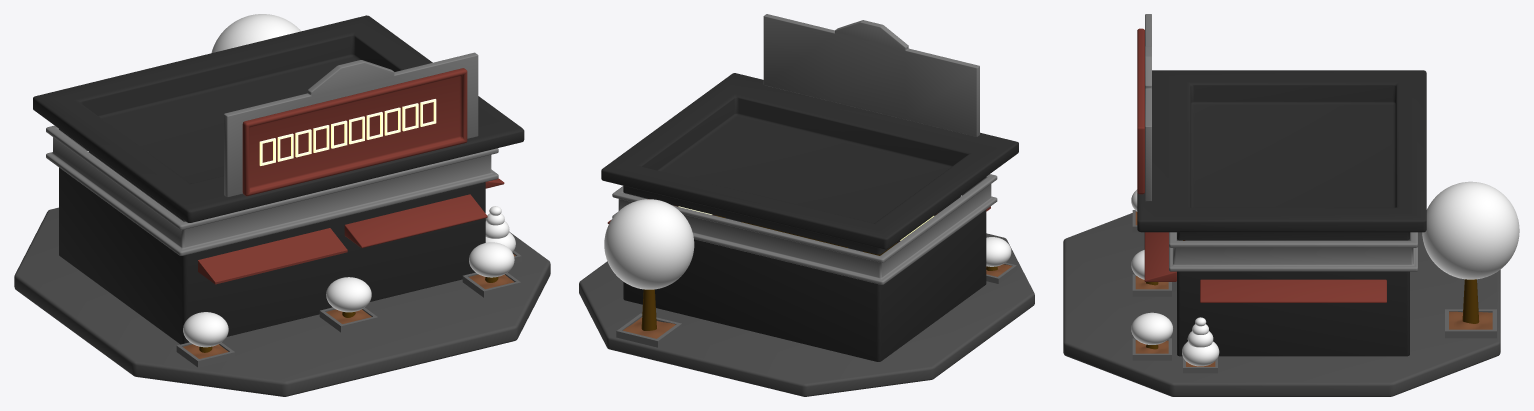
Rendered from restaurant_13.glb.
3 renders of one model, left to right at view 1: azimuth 30°, elevation 25°; view 2: azimuth 150°, elevation 25°; view 3: azimuth 270°, elevation 25°, orthographic. The views are drawn at different scales.
Visible parts, largest first — view 1: Cube.174, Cube.212, Cube.182, Cube.185, Cube.183, Cube.177, Cube.178, Text.009, Sphere.094, Sphere.109, Sphere.110, Sphere.108 (+3 smaller); view 2: Cube.174, Cube.212, Cube.183, Cube.185, Sphere.094, Cube.241, Sphere.108, Cylinder.036, Plane.094; view 3: Cube.174, Cube.212, Cube.185, Sphere.094, Cube.179, Cube.178, Cube.182, Cube.183, Sphere.110, Cube.241, Sphere.100, Cylinder.036 (+3 smaller).
Part boxes in pixels (box(x1,y1,x2,y2)): Cube.174: box(33, 15, 524, 344); Cube.212: box(14, 207, 550, 396); Cube.182: box(242, 68, 467, 196); Cube.185: box(46, 125, 498, 255); Cube.183: box(224, 52, 478, 197); Cube.177: box(198, 228, 347, 284); Cube.178: box(344, 194, 487, 248); Text.009: box(259, 99, 436, 165); Sphere.094: box(211, 14, 300, 53); Sphere.109: box(326, 277, 371, 312); Sphere.110: box(469, 242, 514, 277); Sphere.108: box(183, 312, 228, 347); Cube.174: box(601, 73, 1018, 361); Cube.212: box(579, 233, 1034, 396); Cube.183: box(763, 14, 979, 136); Cube.185: box(612, 174, 997, 284); Sphere.094: box(604, 199, 694, 289); Cube.241: box(616, 313, 681, 347); Sphere.108: box(986, 237, 1011, 266); Cylinder.036: box(641, 289, 656, 330); Plane.094: box(623, 317, 675, 338); Cube.174: box(1137, 70, 1426, 356); Cube.212: box(1063, 213, 1500, 396); Cube.185: box(1169, 232, 1417, 271); Sphere.094: box(1422, 181, 1519, 279); Cube.179: box(1200, 279, 1386, 302); Cube.178: box(1144, 232, 1176, 281); Cube.182: box(1137, 28, 1144, 194); Cube.183: box(1145, 14, 1151, 201); Sphere.110: box(1131, 312, 1172, 344); Cube.241: box(1445, 309, 1496, 338); Sphere.100: box(1182, 341, 1219, 366); Cylinder.036: box(1462, 279, 1479, 323).
Size of the model in its own units: 7.39 by 4.62 by 7.6.
